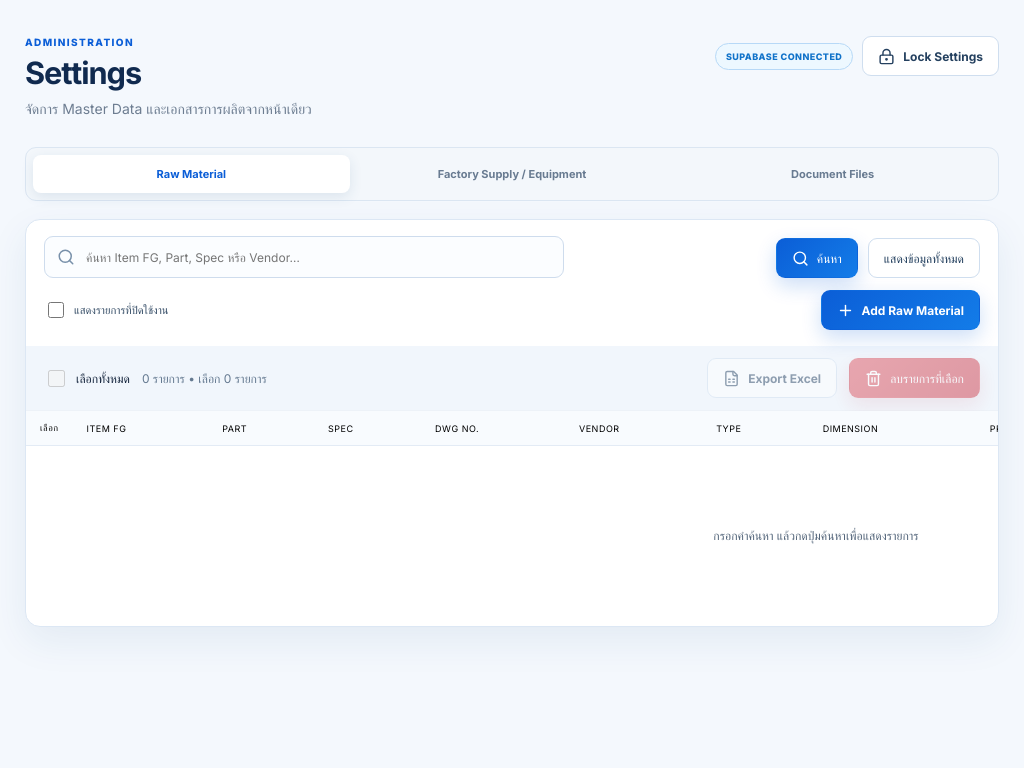
Settings document search › deletes only the selected equipment row and clears selection after success
Click the button "Factory Supply / Equipment" at (512, 174), box [354, 155, 670, 193]
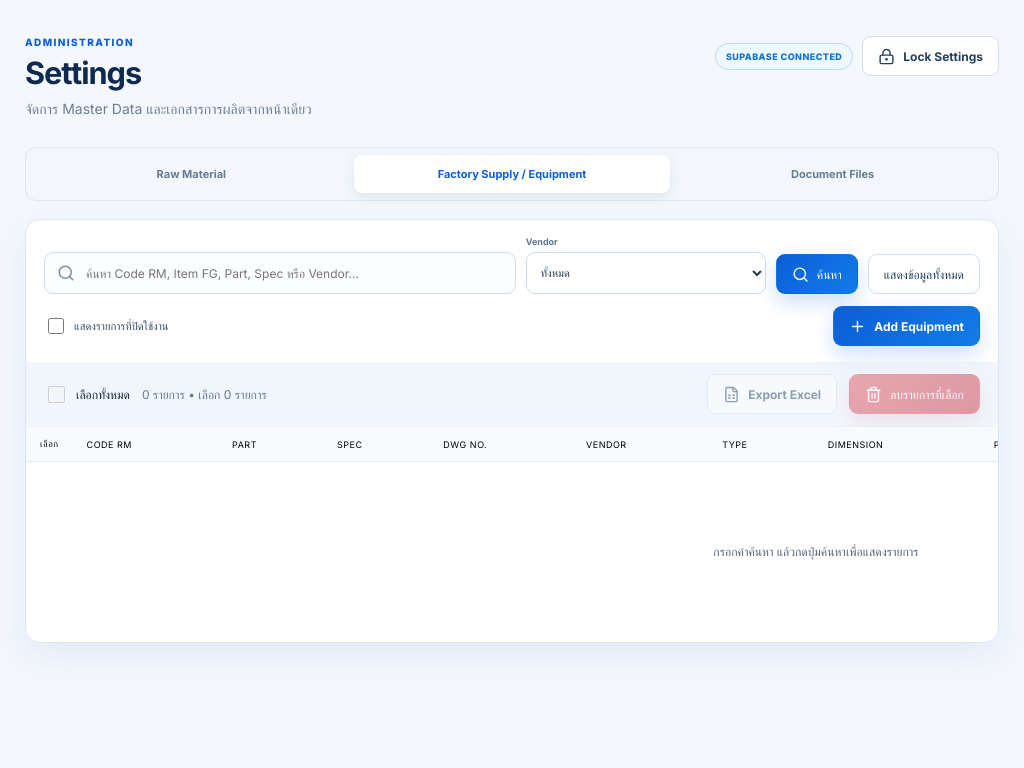
Click the button "แสดงข้อมูลทั้งหมด" at (924, 274), box [868, 254, 980, 294]
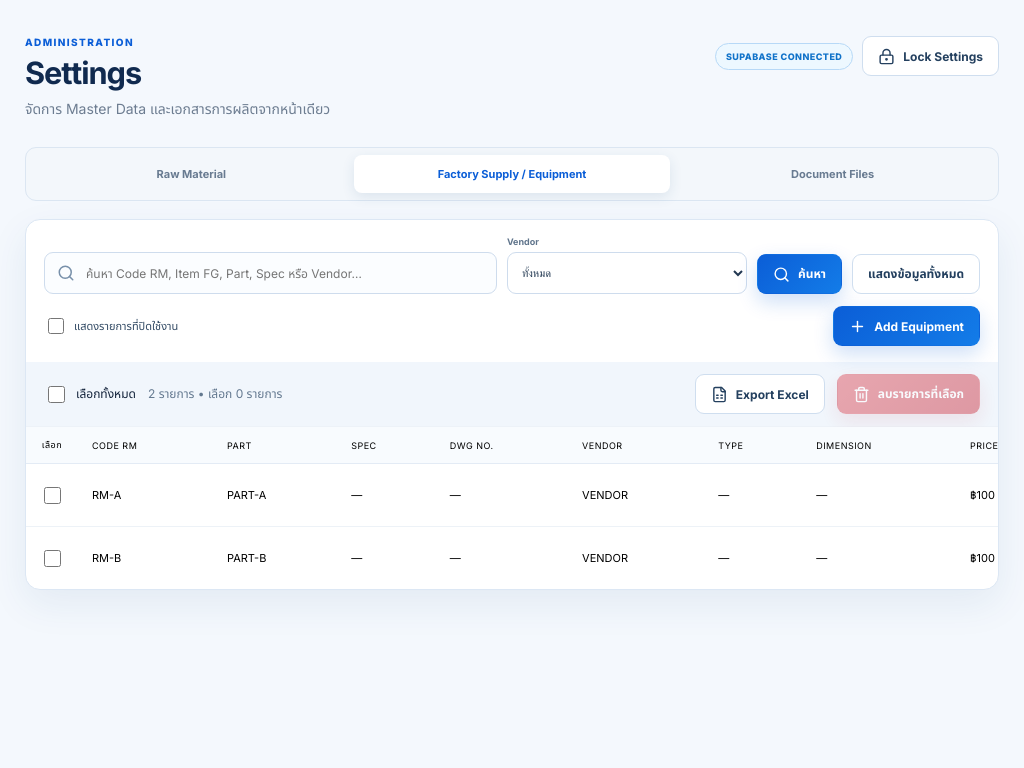
Expected: the text "PART-A" is shown, [213, 464, 337, 527]
Click the checkbox named "เลือก FG-B" at (52, 558), box [44, 550, 61, 567]
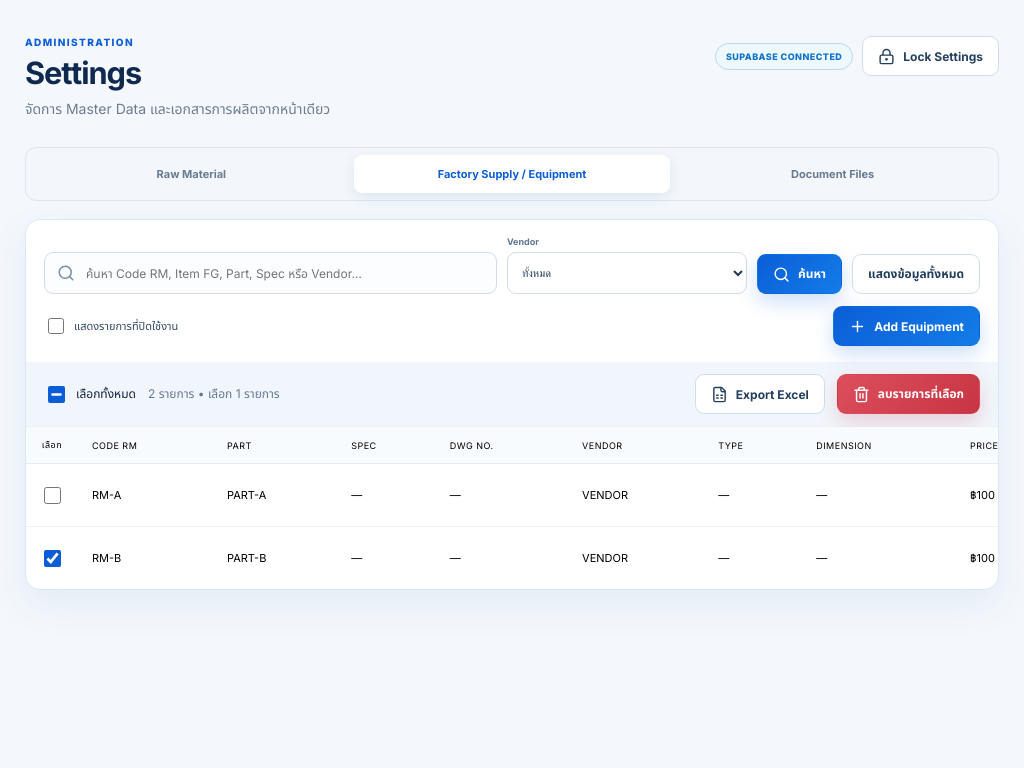
Click the button "ลบรายการที่เลือก" at (908, 394), box [837, 374, 980, 414]
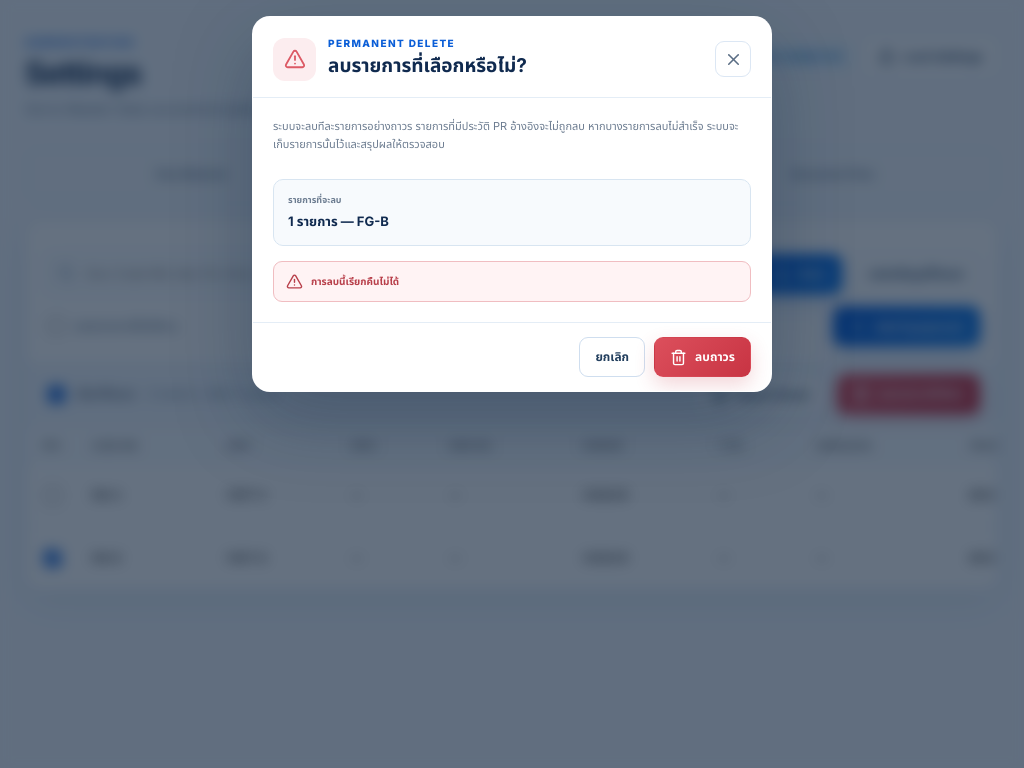
Click the button "ลบถาวร" at (703, 357), box [654, 337, 751, 377]
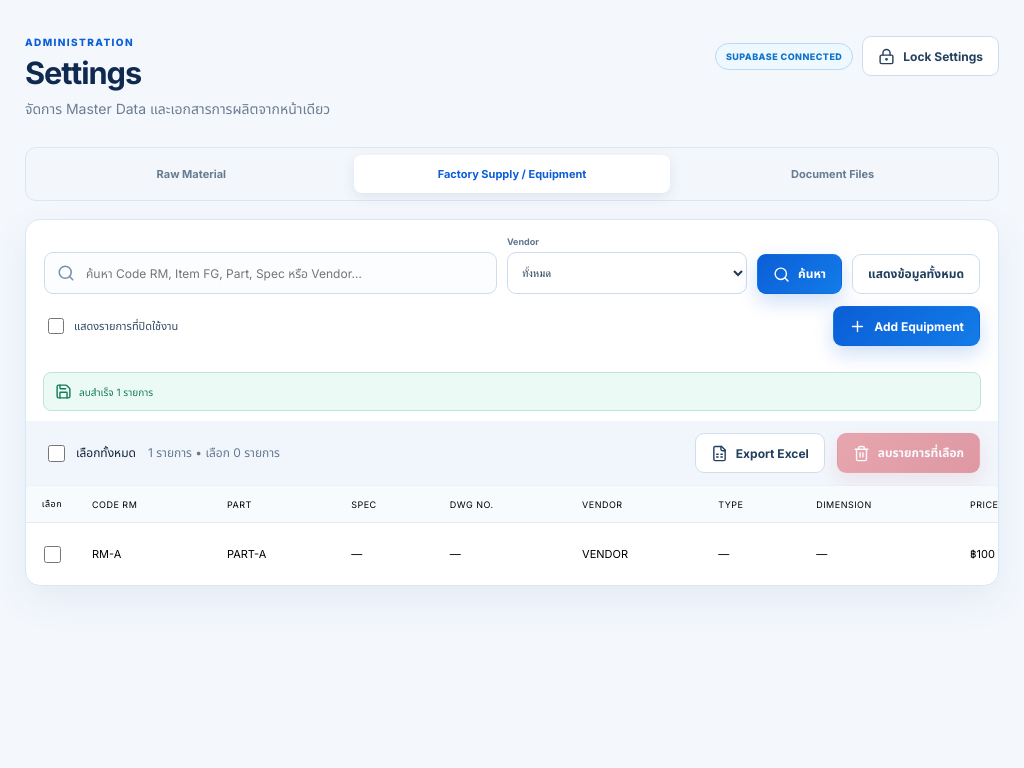
Expected: the text "PART-A" is shown, [213, 523, 337, 585]
Expected: the text "ลบสำเร็จ 1 รายการ" is shown, [43, 372, 981, 411]
Expected: the text "PART-B" is gone
